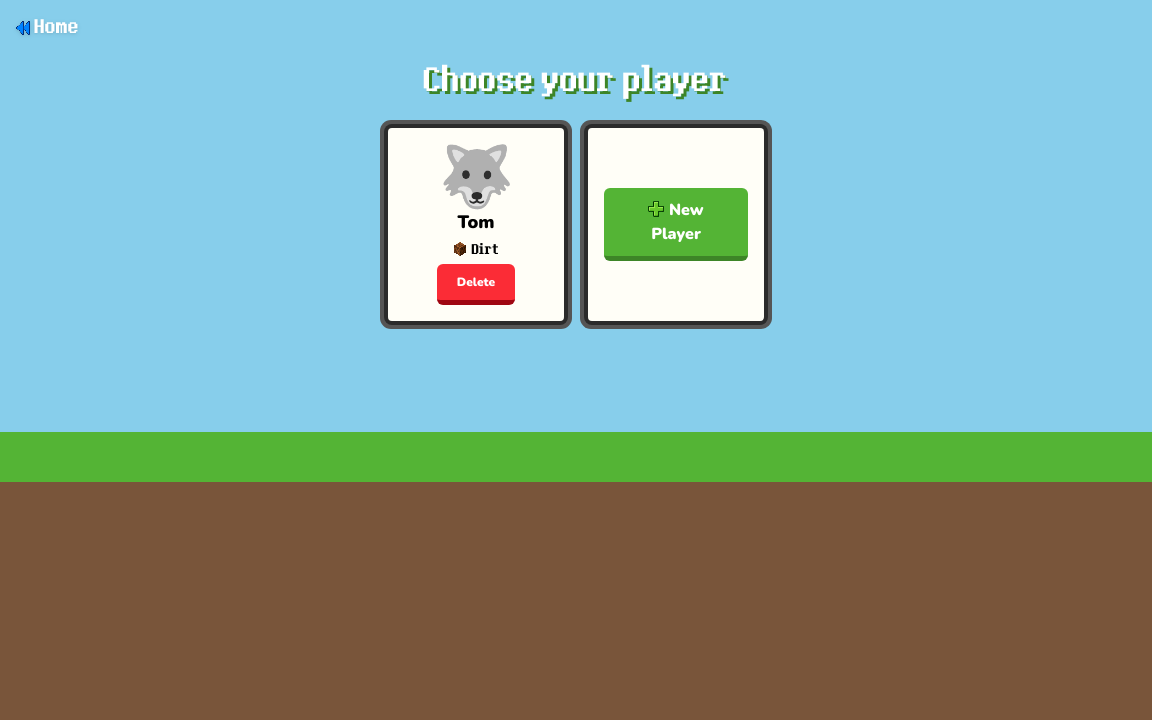
it: PlayersScreen › cancelling the delete confirmation keeps the profile
Click the button "Delete": (476, 284) [437, 264, 515, 305]
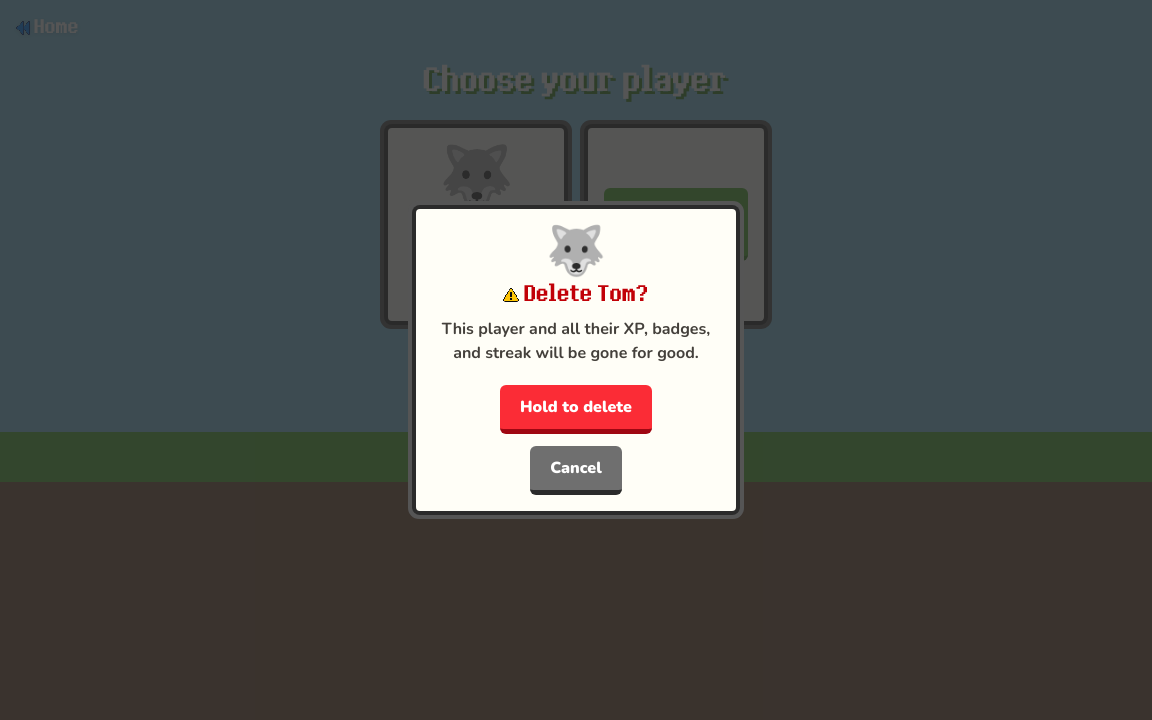
Click the button "Cancel": (576, 470) [530, 446, 622, 495]
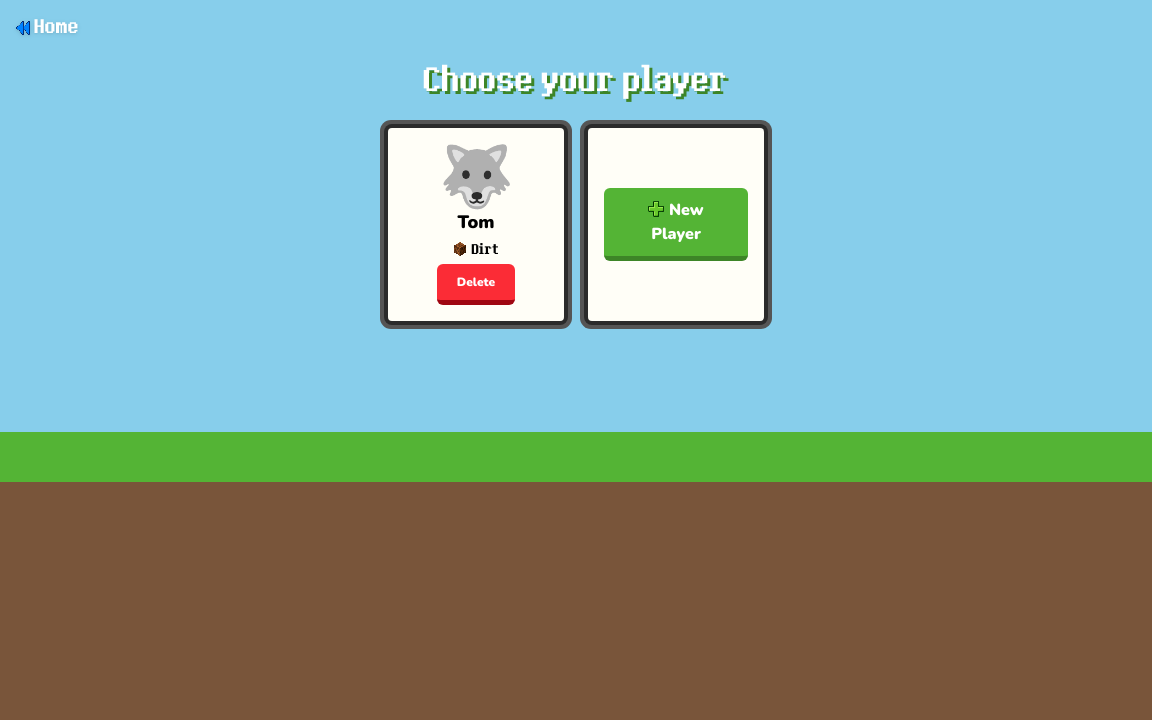
Now the dialog is gone
